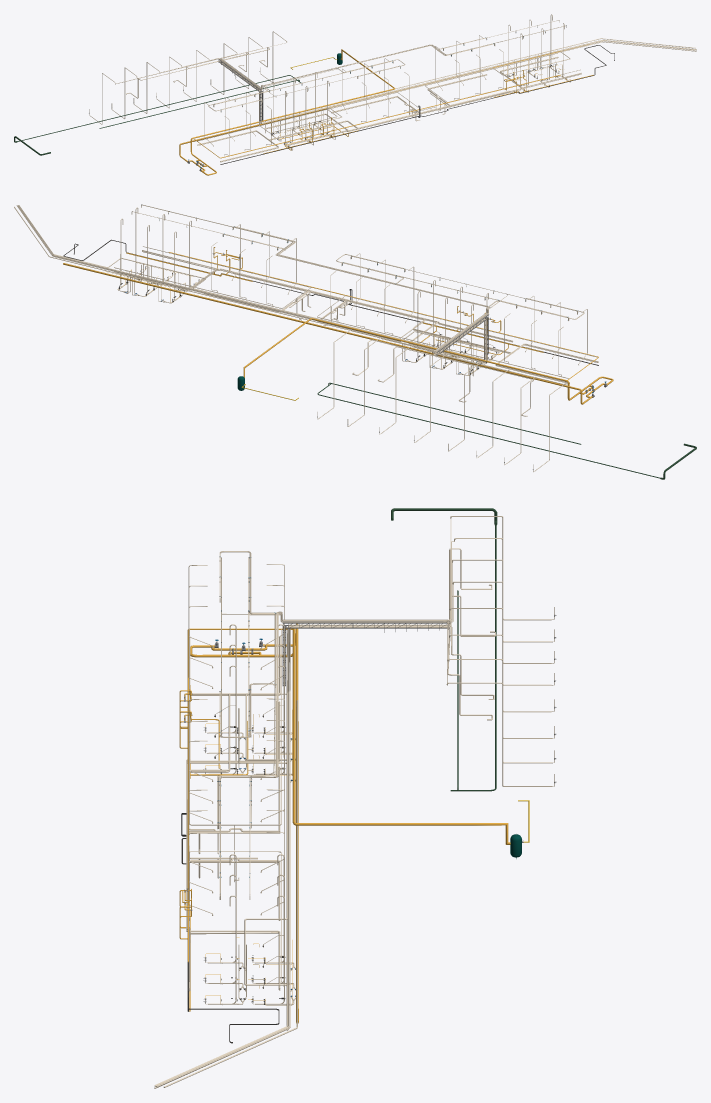
The picture shows the model from 3 angles, top to bottom: view 1: azimuth 30°, elevation 25°; view 2: azimuth 150°, elevation 25°; view 3: azimuth 270°, elevation 25°; orthographic projection. The views are drawn at different scales.
Parts seen in each view (by area): view 1: 图形001, JH-GD004, JH-GD-DH-001, LM-LSGD-001, LM-FSQGD-001, G, JH-MS-X-003, LM-FSQGD-005, JH-LSGZ-GD, c, E, 图形002 (+10 smaller); view 2: JH-GD-DH-001, 图形001, JH-GD004, JH-MS-X-003, LM-LSGD-001, c, LM-FSQGD-005, G, LM-FSQGD-008, C, E, A (+8 smaller); view 3: JH-GD-DH-001, 图形001, G, E, C, LM-LSGD-001, LM-FSQGD-005, LM-FSQGD-004, 管道桥, LM-FSQGD-007, JH-GD004, LM-FSQGD-006 (+5 smaller).
Part boxes in pixels (x1,y1,x2,y2): 图形001: (197, 56, 581, 161); JH-GD004: (197, 57, 581, 162); JH-GD-DH-001: (179, 44, 587, 175); LM-LSGD-001: (14, 75, 300, 155); LM-FSQGD-001: (89, 43, 495, 124); G: (224, 40, 696, 123); JH-MS-X-003: (197, 53, 580, 156); LM-FSQGD-005: (183, 38, 493, 112); JH-LSGZ-GD: (220, 45, 614, 164); c: (126, 41, 603, 133); E: (220, 40, 696, 123); 图形002: (286, 41, 696, 130); JH-GD-DH-001: (63, 263, 613, 404); 图形001: (114, 250, 598, 382); JH-GD004: (115, 251, 598, 383); JH-MS-X-003: (114, 246, 597, 378); LM-LSGD-001: (317, 382, 696, 479); c: (52, 255, 533, 416); LM-FSQGD-005: (222, 226, 584, 442); G: (18, 205, 484, 375); LM-FSQGD-008: (141, 204, 487, 419); C: (16, 205, 485, 402); E: (18, 205, 484, 382); A: (14, 206, 473, 376); JH-GD-DH-001: (190, 623, 510, 1023); 图形001: (186, 636, 280, 989); G: (154, 626, 492, 1086); E: (155, 625, 494, 1086); C: (156, 595, 495, 1087); LM-LSGD-001: (391, 508, 497, 791); LM-FSQGD-005: (218, 551, 556, 828); LM-FSQGD-004: (218, 551, 555, 828); 管道桥: (282, 621, 449, 686); LM-FSQGD-007: (219, 612, 556, 899); JH-GD004: (186, 694, 280, 991); LM-FSQGD-006: (249, 611, 556, 899).
Size of the model in its own units: 290 by 26.21 by 84.41.
